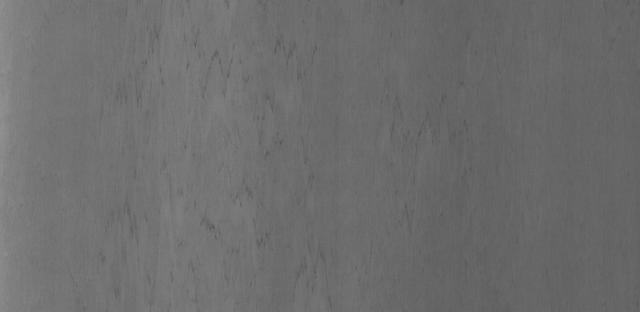silk_spot: (118, 21, 339, 288)
